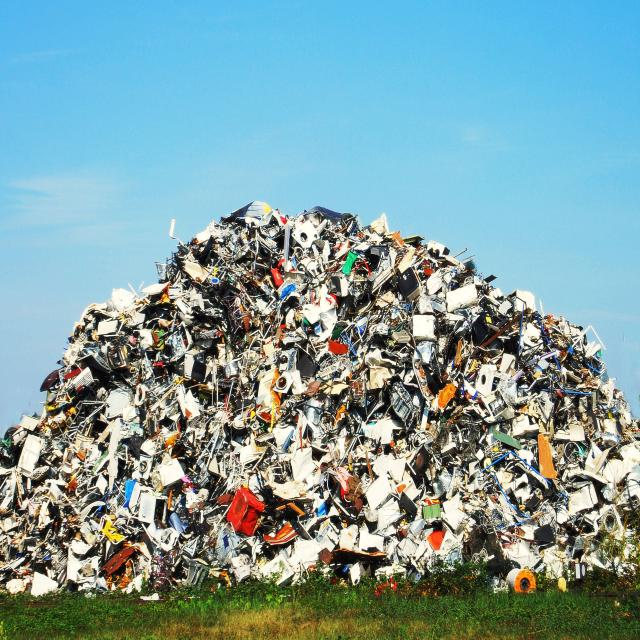garbage: (5, 162, 640, 640)
